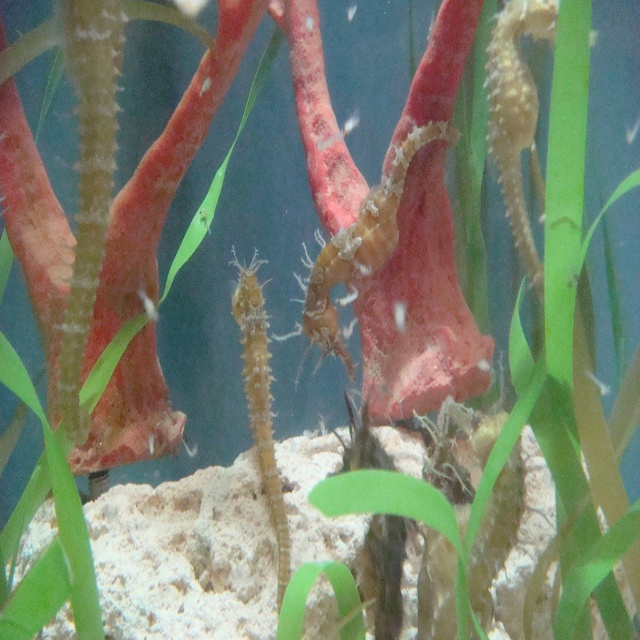Seahorse: (0, 0, 558, 640)
